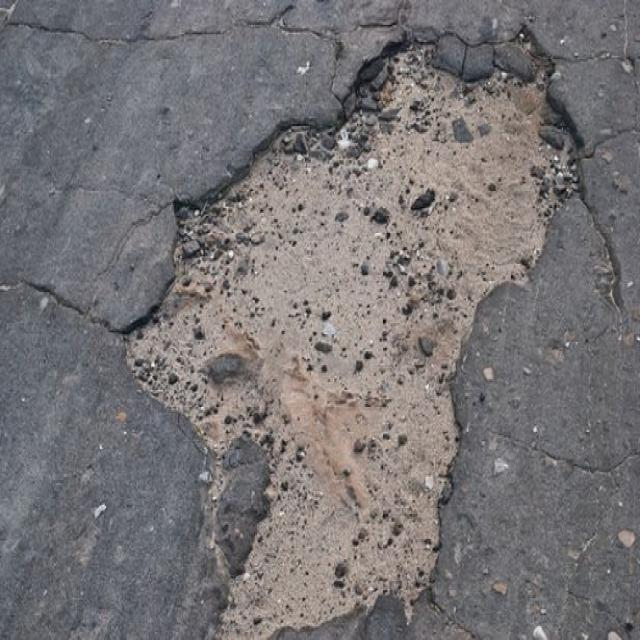Pothole: (116, 19, 594, 639)
